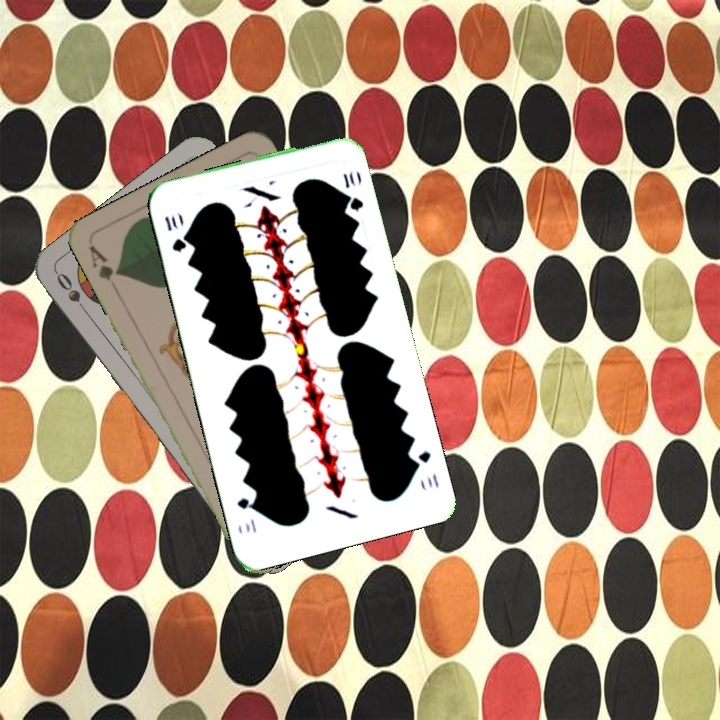G10: (408, 446, 442, 491), (160, 210, 189, 255)
GA: (85, 241, 123, 295)
SO: (52, 268, 93, 320)
